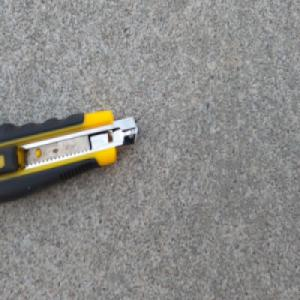Cutter: (0, 109, 138, 205)
